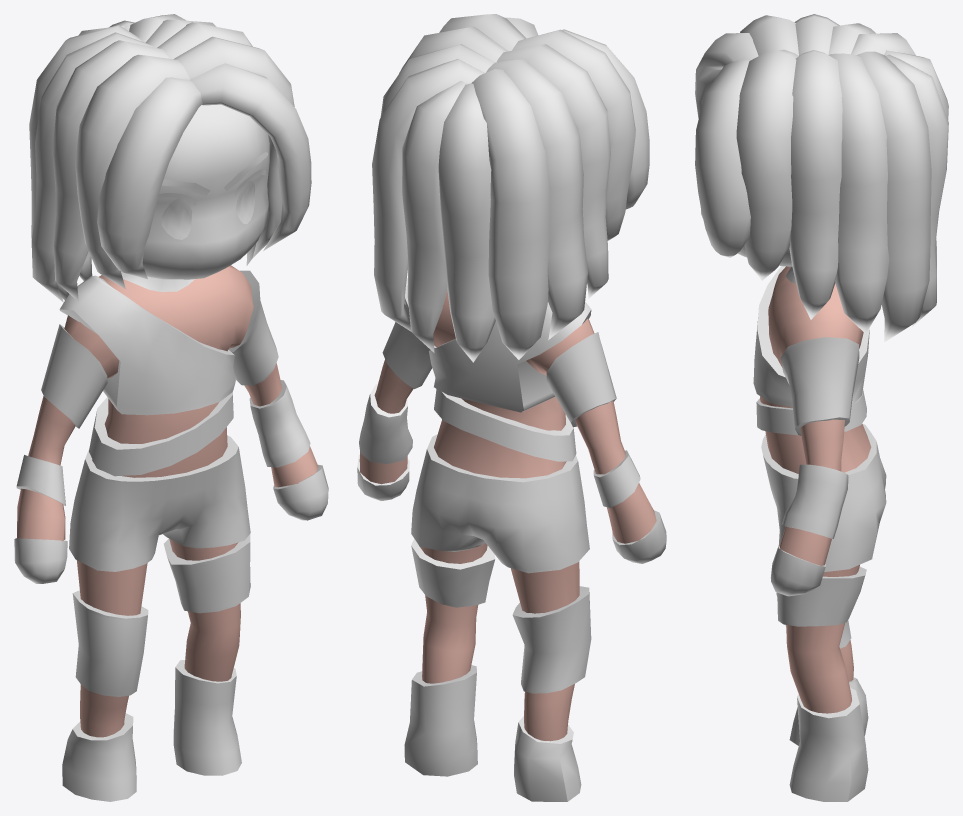
File: Look_Dev_Boi2.fbx
3 views of the same model, side by side, from view 1: azimuth 30°, elevation 25°; view 2: azimuth 150°, elevation 25°; view 3: azimuth 270°, elevation 25° (orthographic). The views are drawn at different scales.
Parts seen in each view (by area): view 1: Cube.021, NurbsPath.002; view 2: Cube.021, NurbsPath.002; view 3: NurbsPath.002, Cube.021.
Part boxes in pixels (x1=…): Cube.021: x1=14, y1=104, x2=328, y2=801; NurbsPath.002: x1=29, y1=14, x2=311, y2=302; Cube.021: x1=357, y1=278, x2=666, y2=801; NurbsPath.002: x1=372, y1=14, x2=649, y2=362; NurbsPath.002: x1=695, y1=14, x2=948, y2=342; Cube.021: x1=700, y1=207, x2=886, y2=801.
Bounding box in the file's own units: 164 × 380 × 120.
